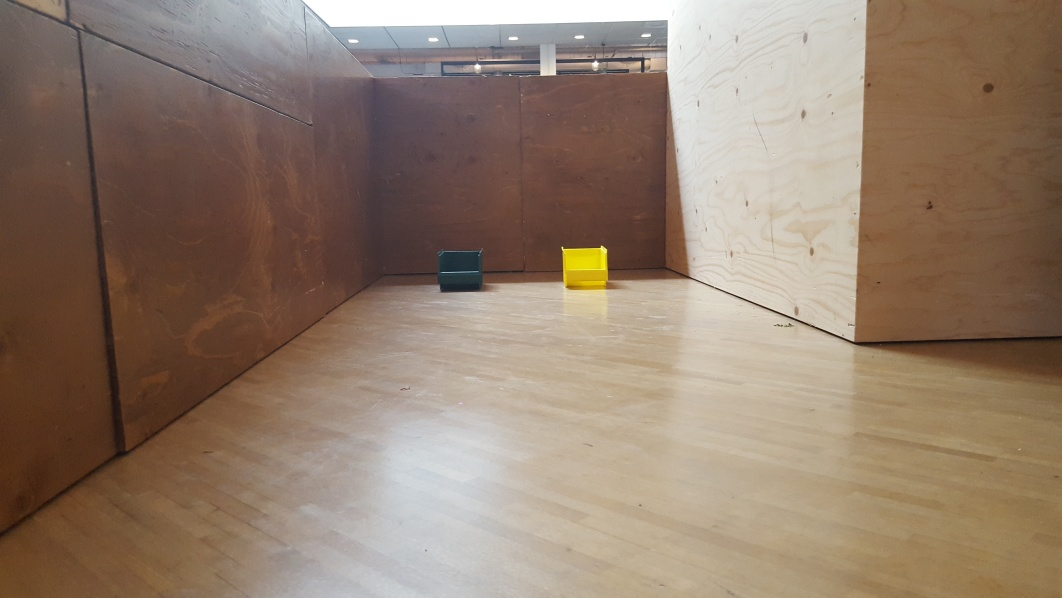tray: (554, 240, 613, 288), (429, 249, 488, 293)
